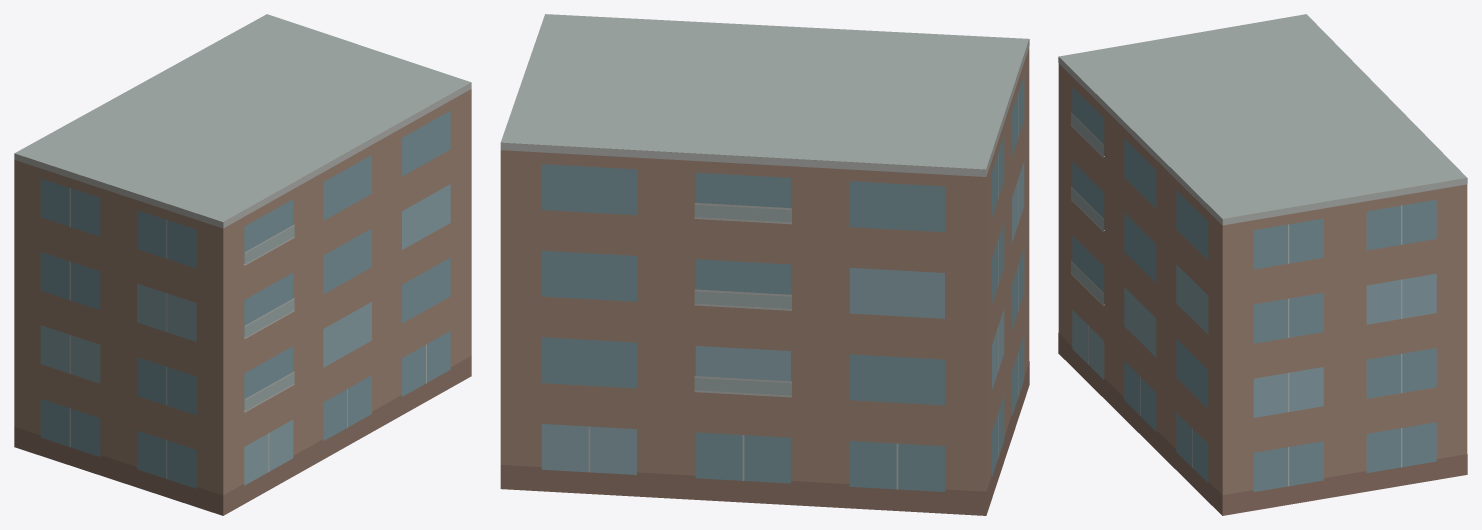
File: survey-upis-32731631.glb
3 views of the same model, side by side, from view 1: azimuth 30°, elevation 25°; view 2: azimuth 150°, elevation 25°; view 3: azimuth 270°, elevation 25° (orthographic). The views are drawn at different scales.
Visible parts, largest first — view 1: survey-upis-32731631.tmp; view 2: survey-upis-32731631.tmp; view 3: survey-upis-32731631.tmp.
Part boxes in pixels (x1=…): survey-upis-32731631.tmp: x1=14, y1=14, x2=471, y2=515; survey-upis-32731631.tmp: x1=500, y1=14, x2=1029, y2=515; survey-upis-32731631.tmp: x1=1058, y1=14, x2=1467, y2=515.
Size of the model in its own units: 16.6 by 11.2 by 13.99.
